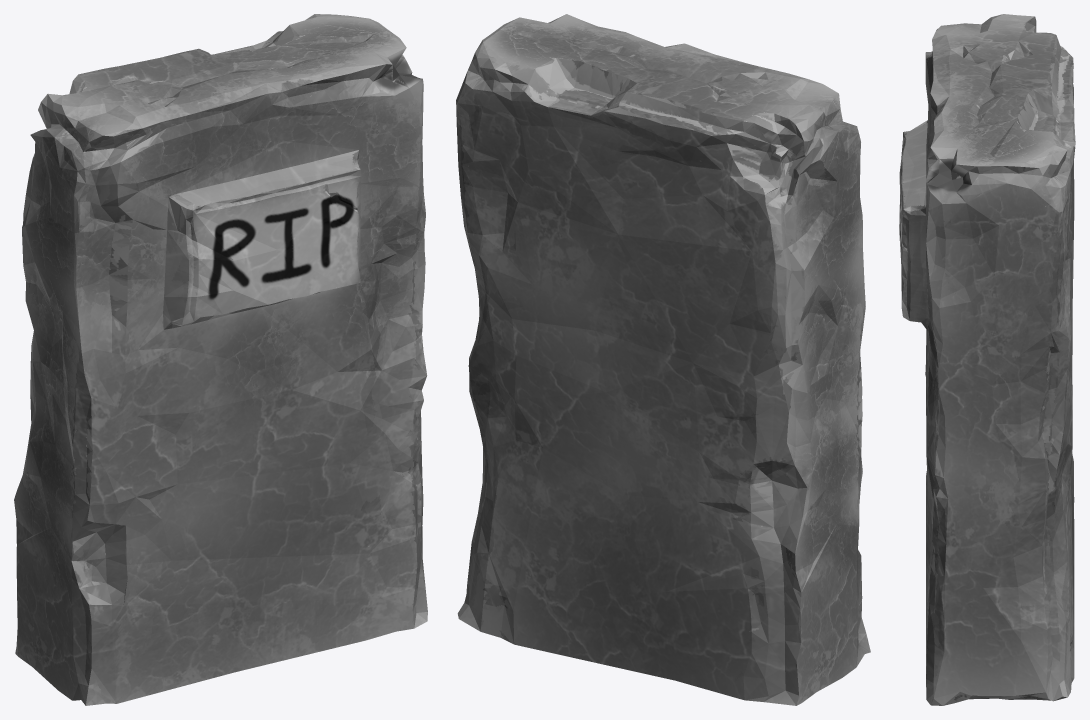
File: Gravestone.fbx
The picture shows the model from 3 angles, left to right: view 1: azimuth 30°, elevation 25°; view 2: azimuth 150°, elevation 25°; view 3: azimuth 270°, elevation 25°; orthographic projection. The views are drawn at different scales.
Visible parts, largest first — view 1: LP; view 2: LP; view 3: LP.
Boxes of the visible parts, x1=… form: LP: x1=14, y1=14, x2=427, y2=705; LP: x1=456, y1=14, x2=870, y2=705; LP: x1=899, y1=14, x2=1075, y2=705.
Size of the model in its own units: 54.03 by 84.85 by 24.91.
Materials: 1 (1 with a texture image).
